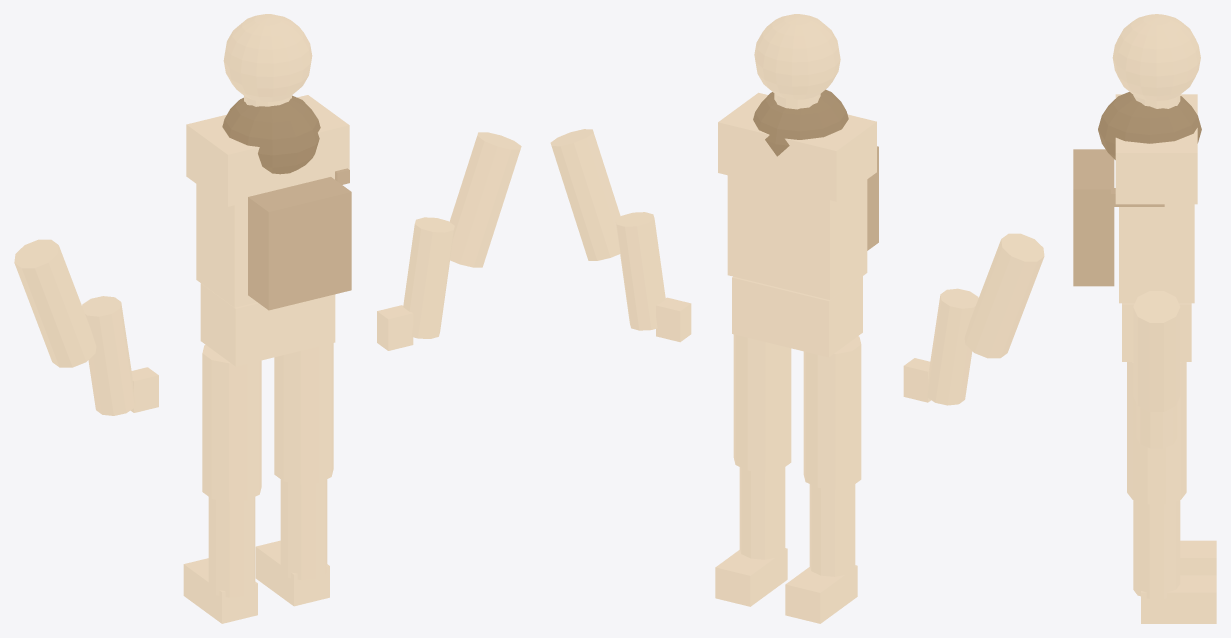
The model's file is hero_grey.glb.
3 renders of one model, left to right at view 1: azimuth 30°, elevation 25°; view 2: azimuth 150°, elevation 25°; view 3: azimuth 270°, elevation 25°, orthographic. The views are drawn at different scales.
Parts seen in each view (by area): view 1: Maya_LOD0; view 2: Maya_LOD0; view 3: Maya_LOD0.
Part boxes in pixels (left/top/right/bottom): Maya_LOD0: left=14, top=14, right=521, bottom=623; Maya_LOD0: left=550, top=14, right=1044, bottom=623; Maya_LOD0: left=1073, top=14, right=1216, bottom=623.
Size of what is drawn, in the model's own units: 1.81 by 2.03 by 0.455.
